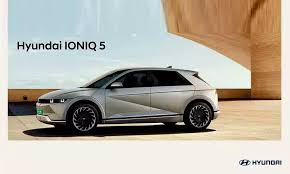Honda Ioniq: (25, 63, 225, 135)
